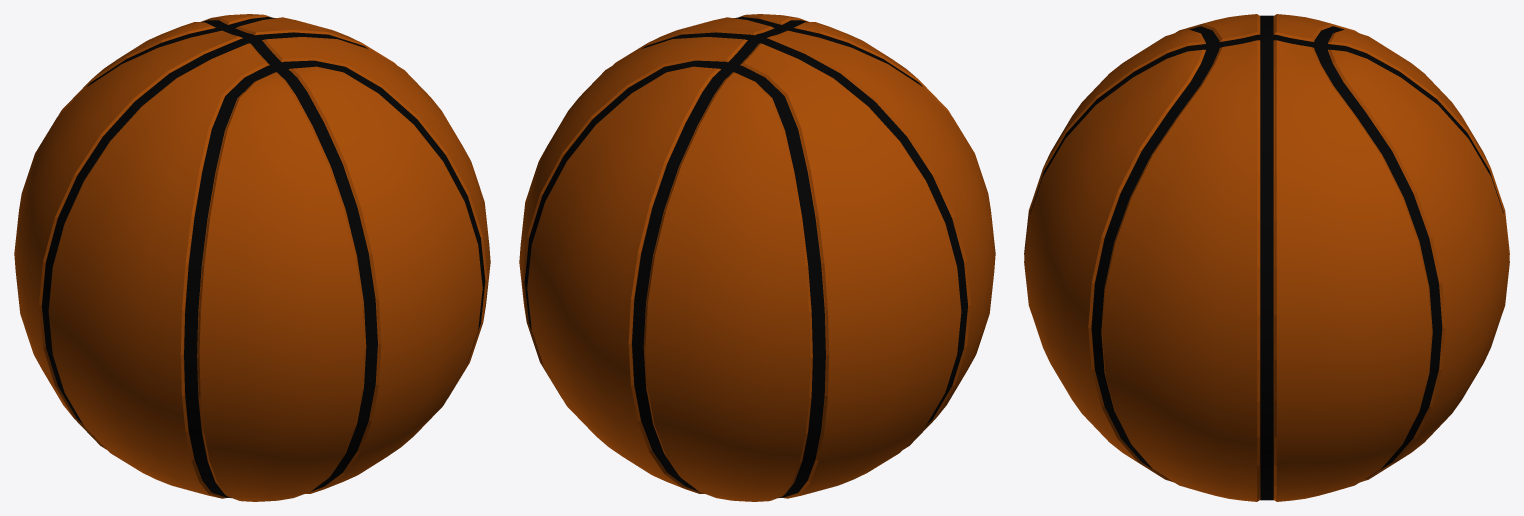
Rendered from Basketball.FBX.
3 views of the same model, side by side, from view 1: azimuth 30°, elevation 25°; view 2: azimuth 150°, elevation 25°; view 3: azimuth 270°, elevation 25° (orthographic).
Visible parts, largest first — view 1: SmallSize; view 2: SmallSize; view 3: SmallSize.
Boxes of the visible parts, <box> form: SmallSize: <box>14,14,490,501</box>; SmallSize: <box>519,14,995,501</box>; SmallSize: <box>1024,14,1509,501</box>.
Bounding box in the file's own units: 18.22 × 18.36 × 18.22.
